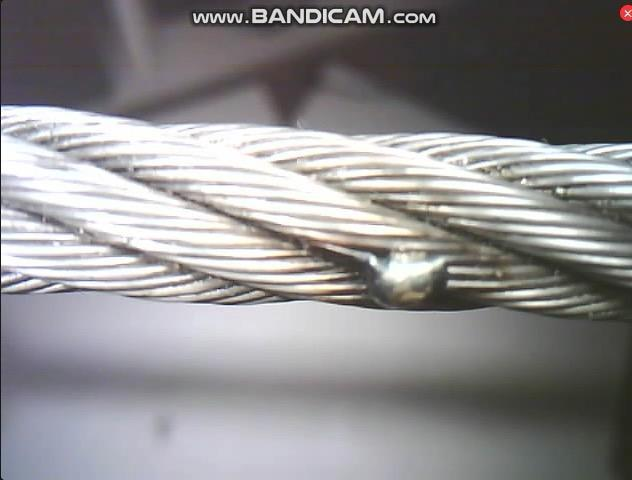thunderbolt: (345, 235, 497, 312)
